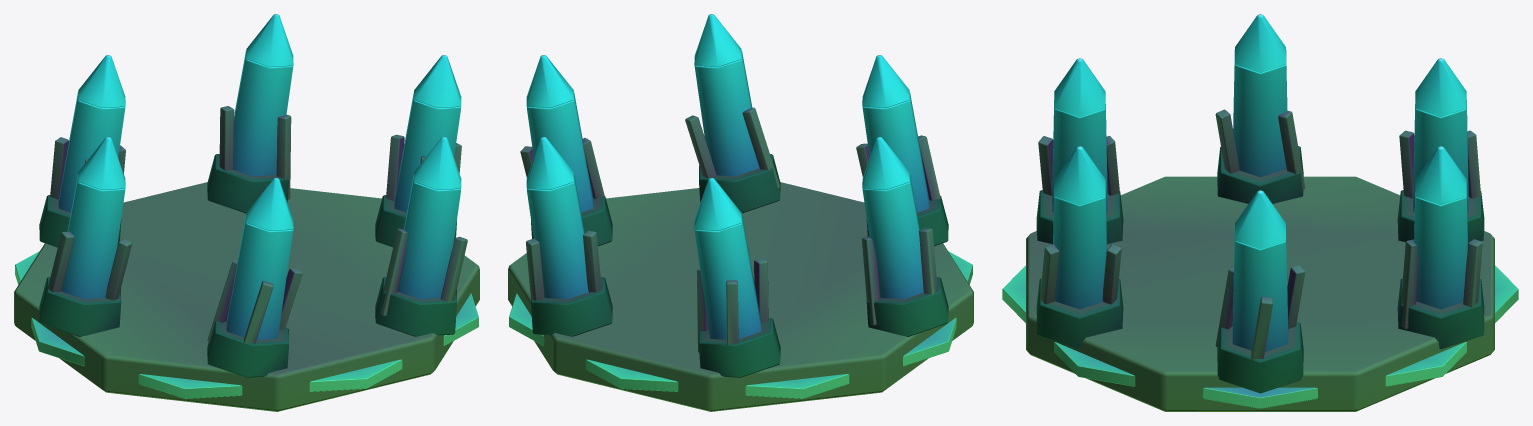
The model's file is kit_boss_phase_crown.glb.
3 views of the same model, side by side, from view 1: azimuth 30°, elevation 25°; view 2: azimuth 150°, elevation 25°; view 3: azimuth 270°, elevation 25° (orthographic). The views are drawn at different scales.
Parts seen in each view (by area): view 1: Body__gunmetal, Body__dark, Crystal_1__emit_core, Crystal_3__emit_core, Crystal_5__emit_core, Crystal_2__emit_core, Body__emit_core, Crystal_4__emit_core, Crystal_0__emit_core; view 2: Body__gunmetal, Body__dark, Crystal_3__emit_core, Crystal_5__emit_core, Crystal_1__emit_core, Crystal_4__emit_core, Body__emit_core, Crystal_2__emit_core, Crystal_0__emit_core; view 3: Body__gunmetal, Body__dark, Crystal_5__emit_core, Crystal_1__emit_core, Crystal_3__emit_core, Crystal_0__emit_core, Body__emit_core, Crystal_4__emit_core, Crystal_2__emit_core.
Boxes of the visible parts, x1,y1,x2,y2 form: Body__gunmetal: [14, 106, 479, 411]; Body__dark: [39, 154, 456, 377]; Crystal_1__emit_core: [397, 137, 461, 299]; Crystal_3__emit_core: [61, 137, 125, 299]; Crystal_5__emit_core: [233, 14, 293, 176]; Crystal_2__emit_core: [226, 178, 293, 339]; Body__emit_core: [15, 251, 478, 398]; Crystal_4__emit_core: [58, 55, 125, 212]; Crystal_0__emit_core: [394, 55, 461, 212]; Body__gunmetal: [508, 107, 973, 411]; Body__dark: [531, 154, 948, 377]; Crystal_3__emit_core: [862, 137, 923, 299]; Crystal_5__emit_core: [526, 137, 588, 299]; Crystal_1__emit_core: [694, 14, 759, 176]; Crystal_4__emit_core: [694, 178, 761, 339]; Body__emit_core: [509, 251, 972, 398]; Crystal_2__emit_core: [862, 55, 929, 212]; Crystal_0__emit_core: [526, 55, 593, 212]; Body__gunmetal: [1026, 109, 1494, 411]; Body__dark: [1036, 146, 1484, 393]; Crystal_5__emit_core: [1414, 146, 1467, 309]; Crystal_1__emit_core: [1053, 146, 1106, 309]; Crystal_3__emit_core: [1233, 14, 1287, 177]; Crystal_0__emit_core: [1232, 190, 1288, 351]; Body__emit_core: [1002, 265, 1518, 408]; Crystal_4__emit_core: [1413, 58, 1468, 212]; Crystal_2__emit_core: [1052, 58, 1107, 212].
Bounding box in the file's own units: 1.16 × 0.5531 × 1.14.
